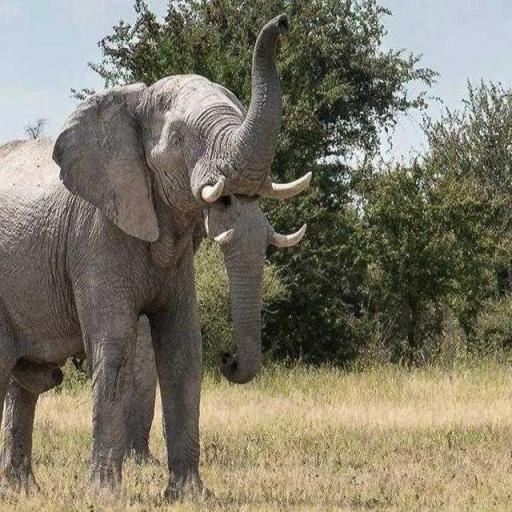Elephant: (0, 12, 312, 503)
